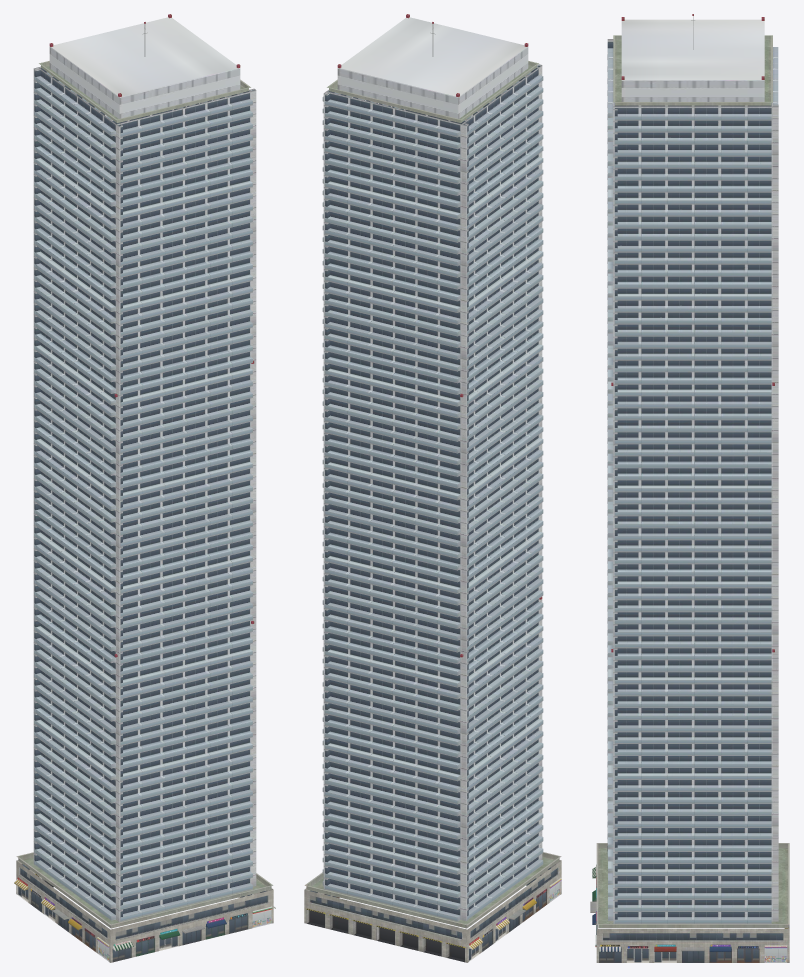
The model's file is tokyo_glasstower_d.glb.
3 views of the same model, side by side, from view 1: azimuth 30°, elevation 25°; view 2: azimuth 150°, elevation 25°; view 3: azimuth 270°, elevation 25° (orthographic). The views are drawn at different scales.
Parts seen in each view (by area): view 1: tokyo_glasstower_d; view 2: tokyo_glasstower_d; view 3: tokyo_glasstower_d.
Part boxes in pixels (x1,y1,x2,y2): tokyo_glasstower_d: (14, 14, 275, 962); tokyo_glasstower_d: (304, 14, 561, 962); tokyo_glasstower_d: (590, 14, 789, 962).
Size of the model in its own units: 48.98 by 239 by 47.5.
1 material, 1 textured.
